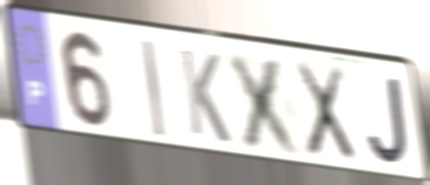6: (57, 27, 114, 133)
I: (139, 37, 168, 141)
J: (365, 73, 411, 167)
K: (177, 45, 234, 147)
X: (224, 49, 307, 159), (291, 59, 358, 165)
